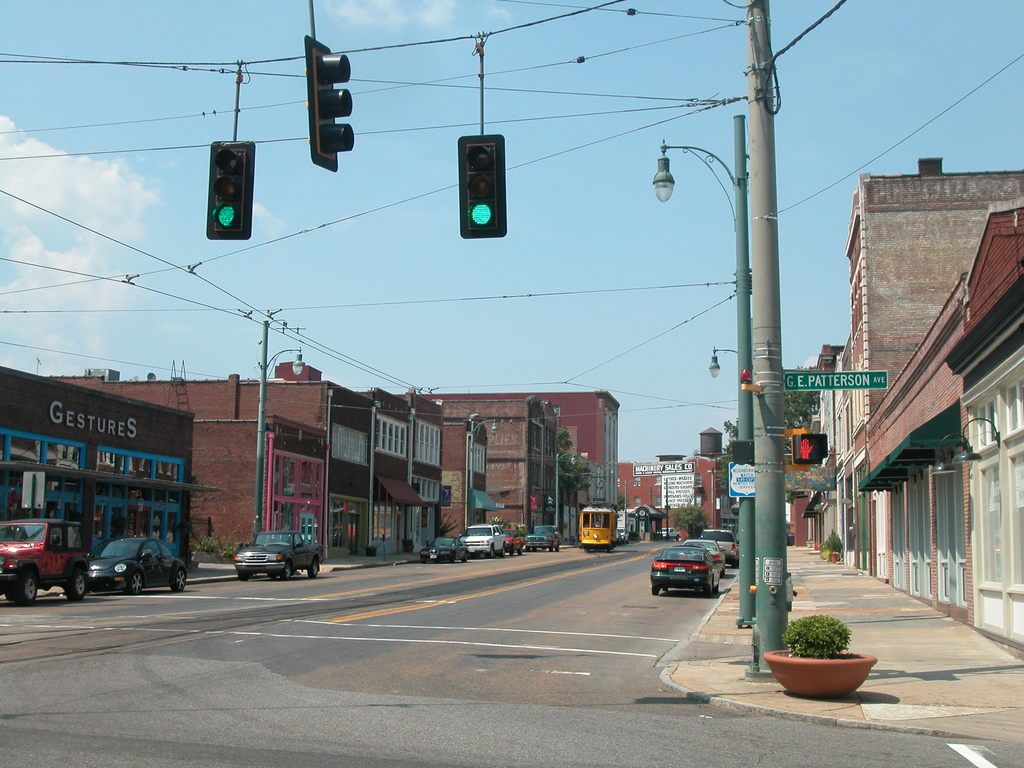green_light: (460, 137, 503, 234), (212, 144, 248, 238)
